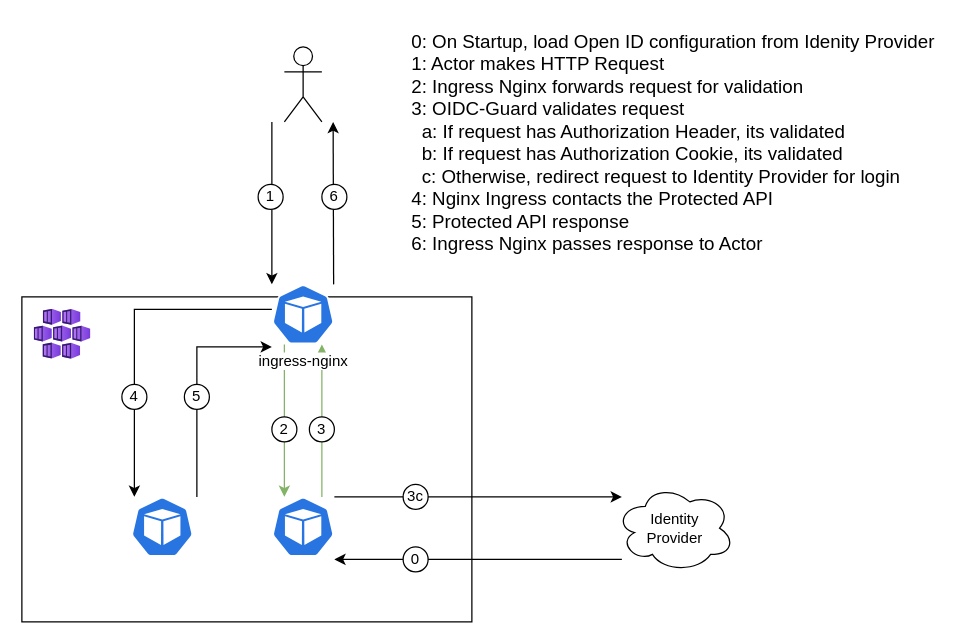
The diagram is 969 pixels wide and 644 high, and some of its shapes have lost their labels. The shapes that lost their labels are listed below. From the top down, each one's box as (x1, y1, x2, y2) in pixels, then its label:
(283, 46, 322, 122): Actor
(34, 309, 90, 359): Kubernetes
(130, 496, 194, 557): Protected API
(271, 496, 334, 557): OIDC-Guard
